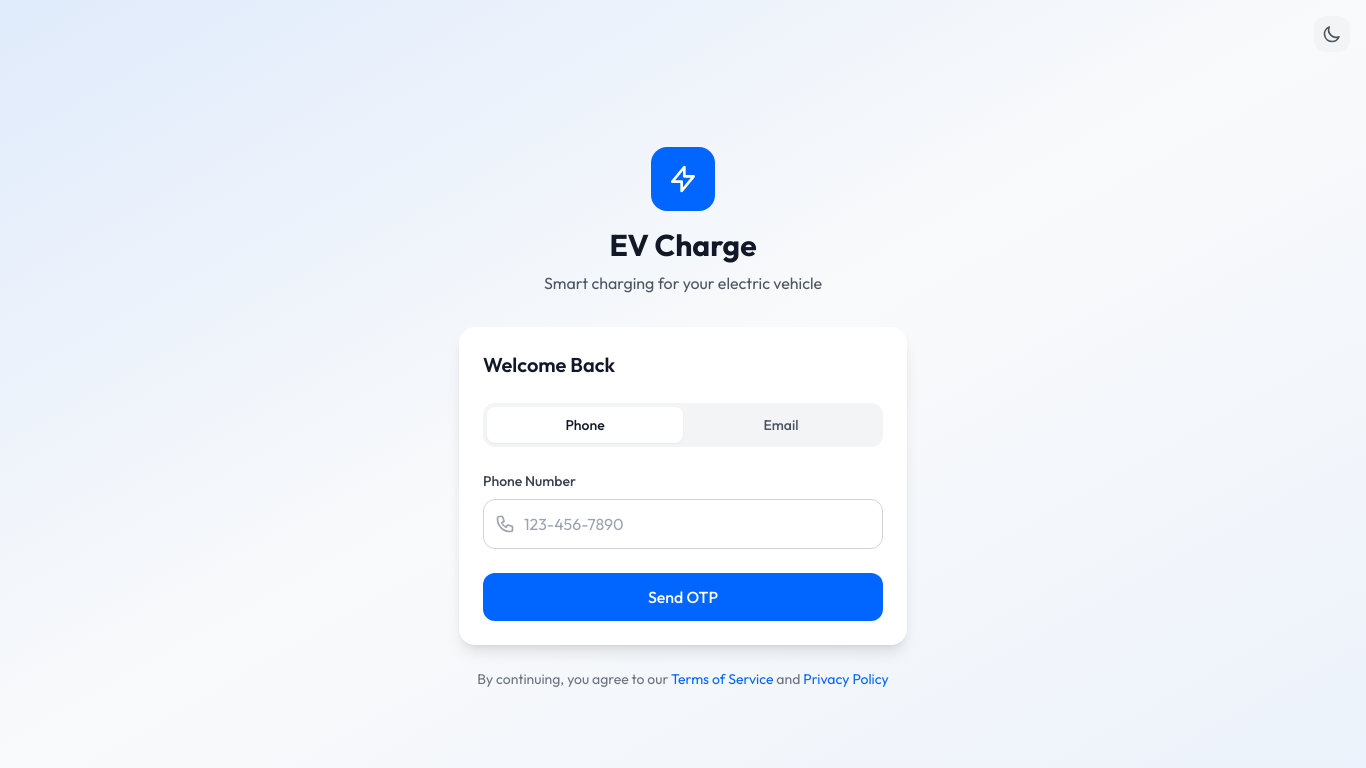
Test: Login Component › shows error for invalid phone number
Type "123" into the field labelled "Phone Number" at (683, 524), box [483,499,883,549]
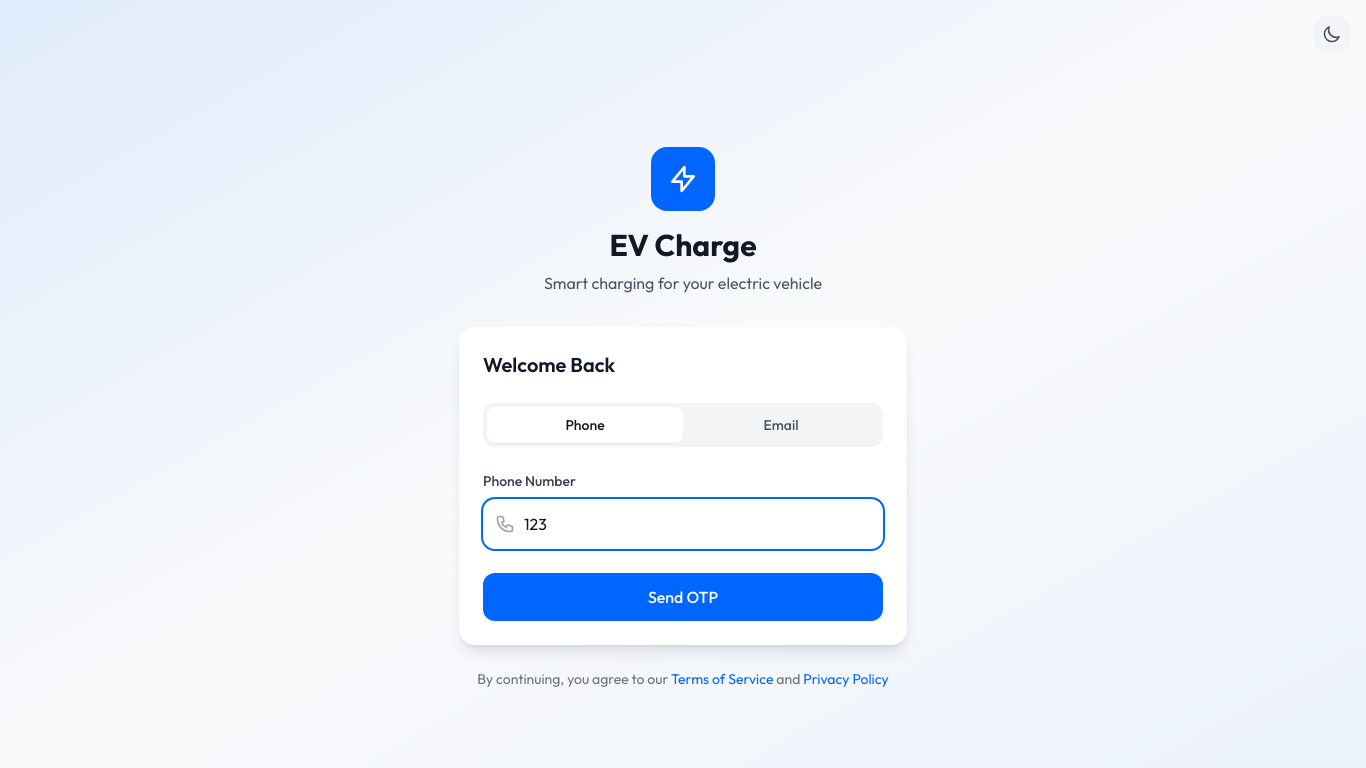
Click the button "Send OTP" at (683, 597), box [483,573,883,621]
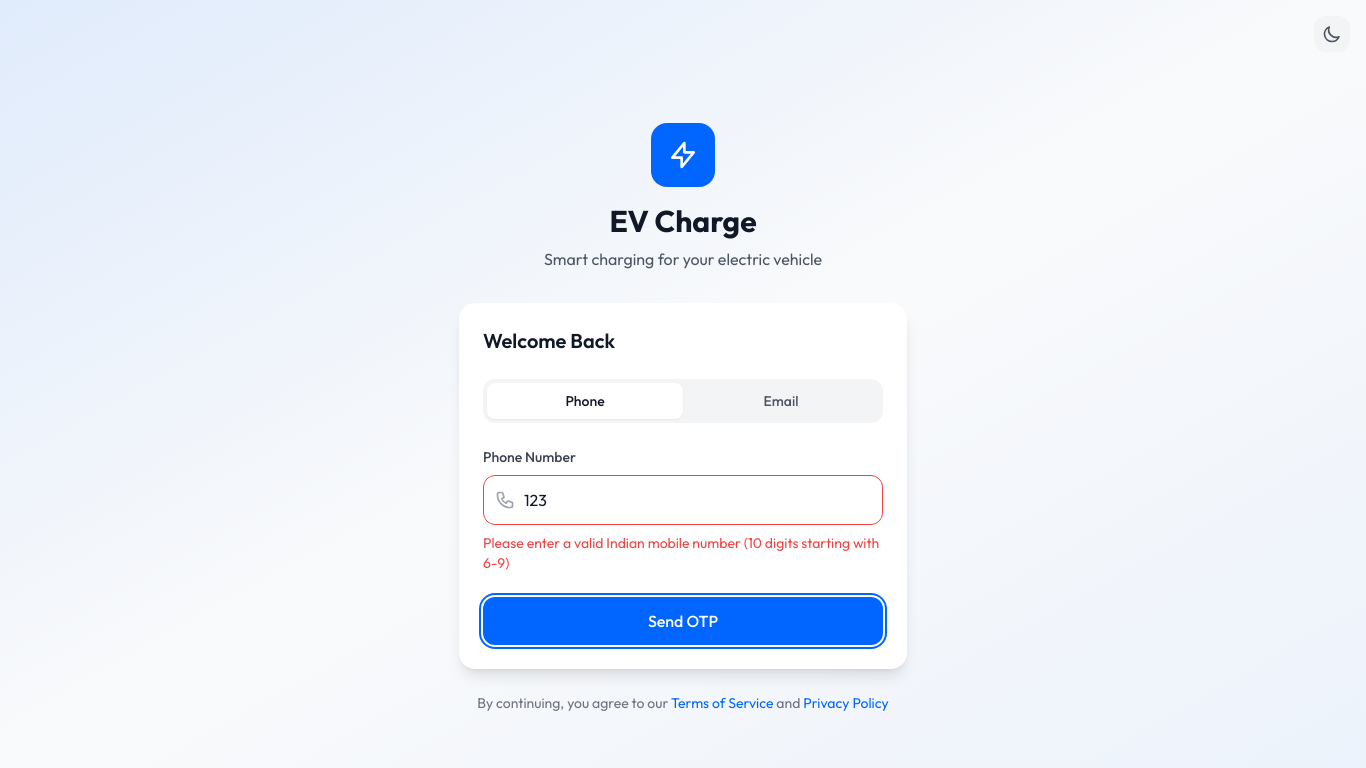
expect the text "Please enter a valid Indian mobile number (10 digits starting with 6-9)" is shown: met, box [483,533,883,573]
